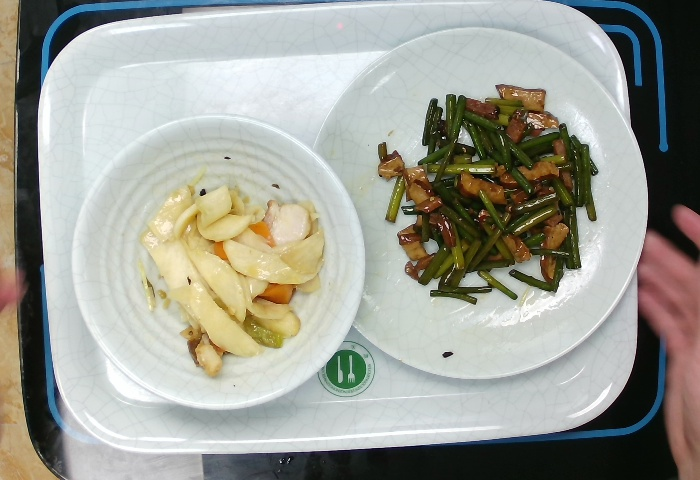JYsf-Da_Yuan_Pan: (306, 18, 653, 381)
JYsf-Xiao_Tang_Wan: (67, 111, 368, 416)
